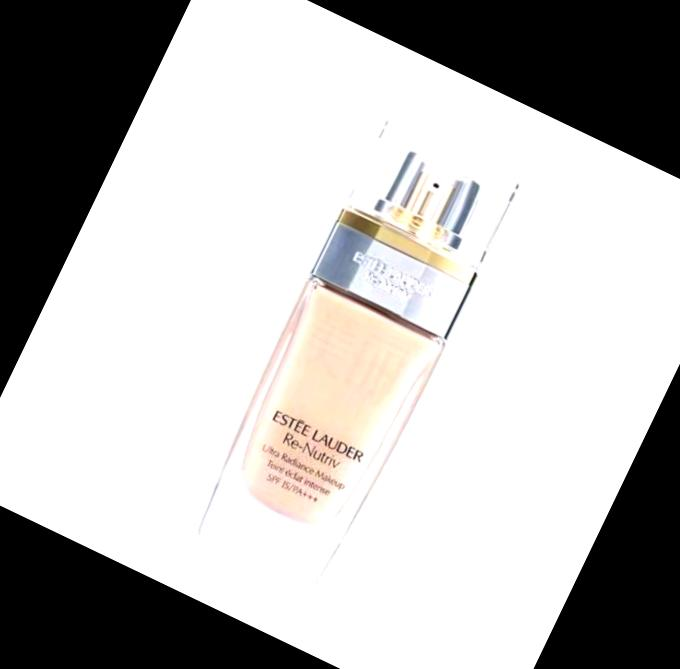cosmetic: (186, 118, 518, 596)
